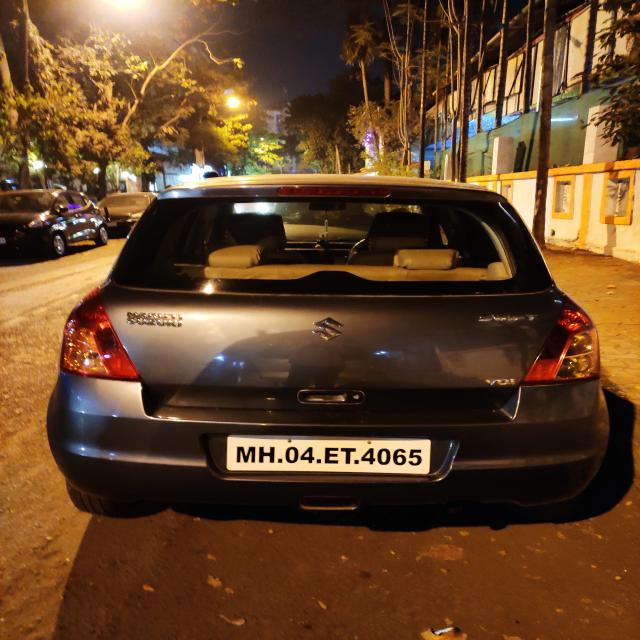Number-Plate: (227, 434, 428, 474)
